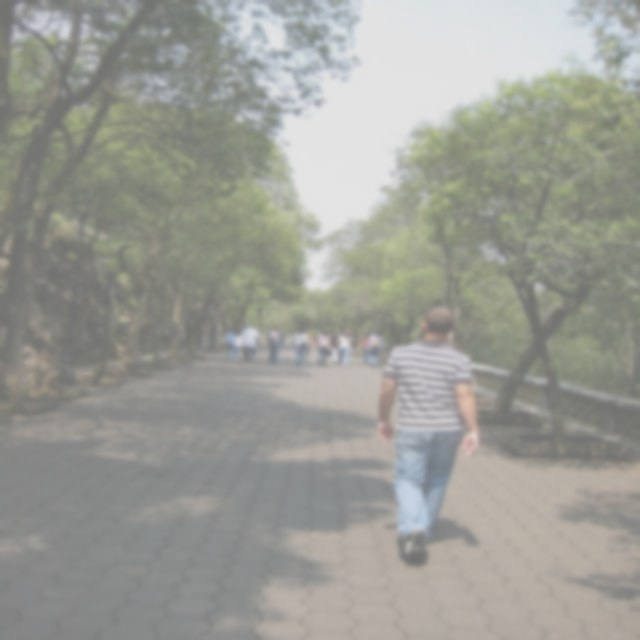pessoa: (377, 305, 480, 566), (382, 512, 481, 558), (264, 325, 286, 365), (241, 324, 261, 362), (292, 327, 310, 365), (336, 330, 354, 368), (315, 330, 333, 366), (368, 330, 384, 368), (359, 332, 372, 365), (302, 328, 314, 362), (223, 330, 235, 360), (232, 332, 244, 362), (330, 331, 340, 364)
